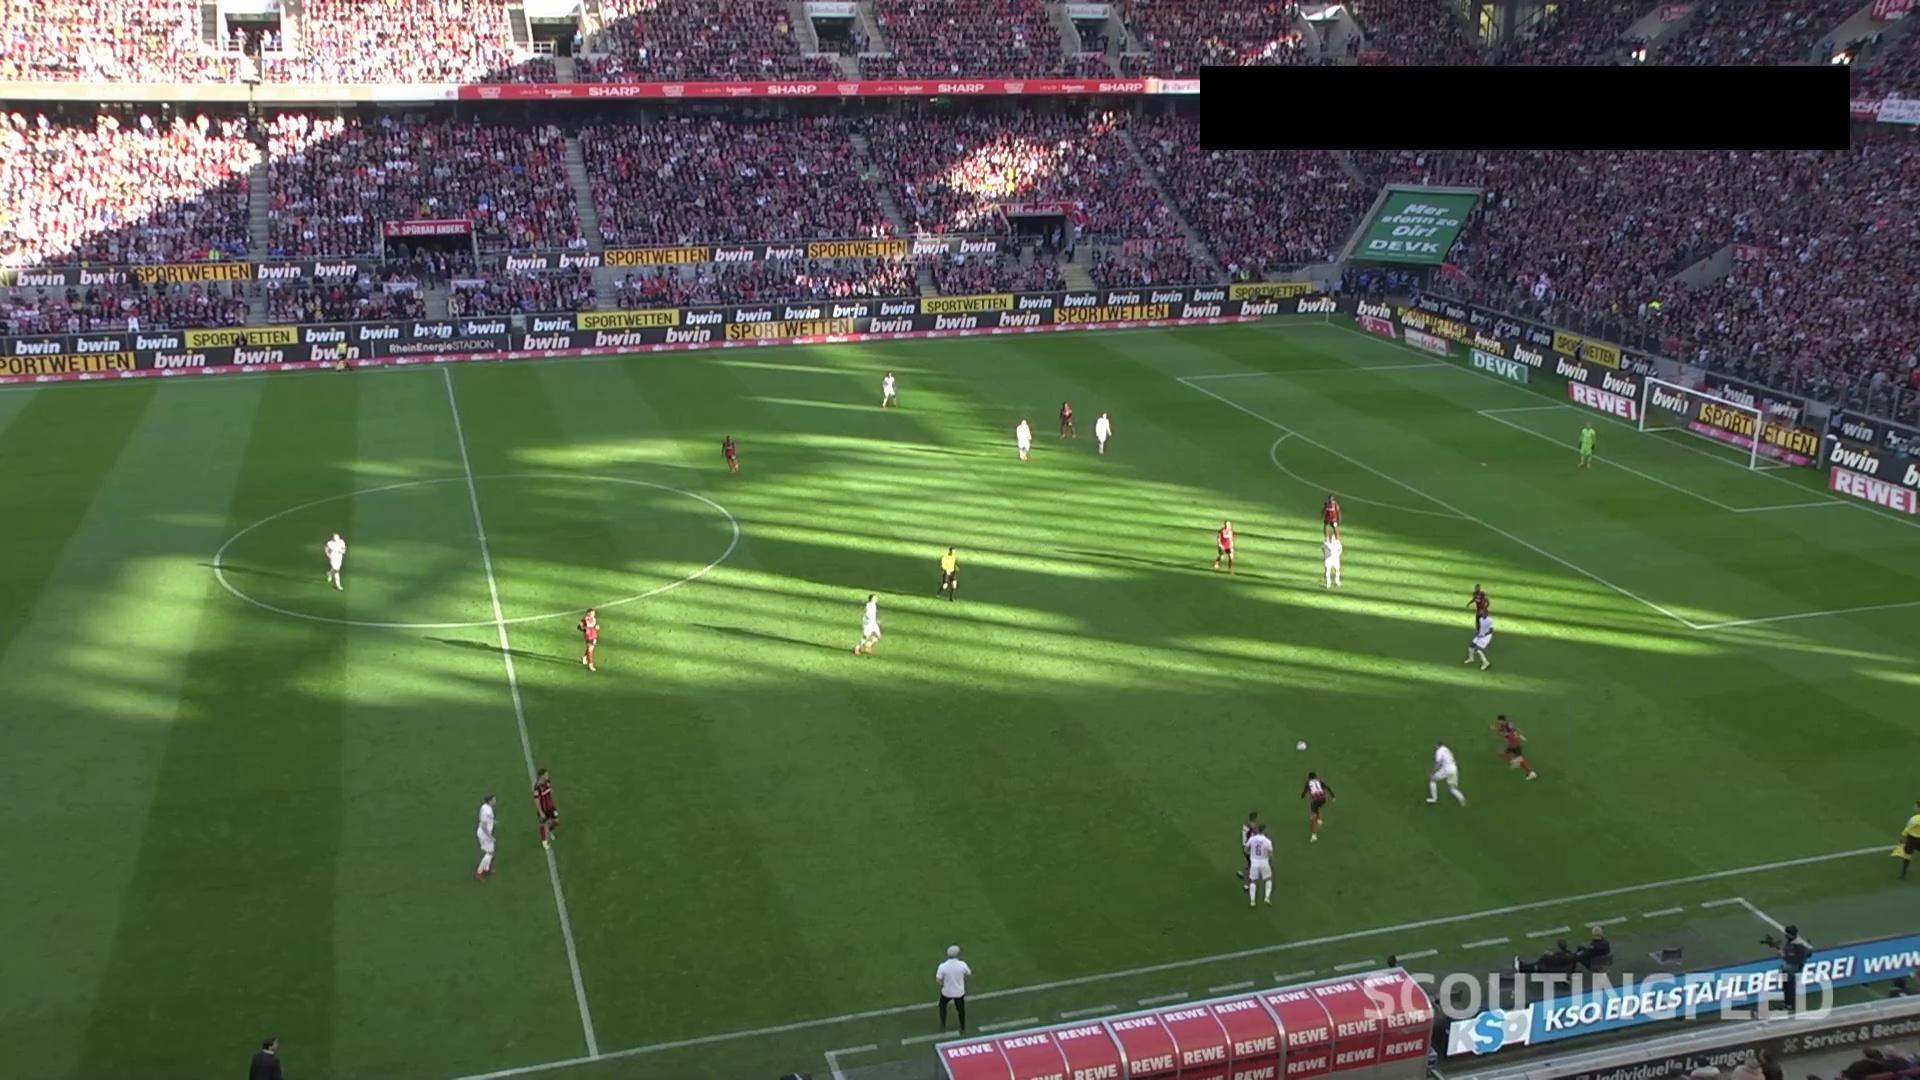Location-of-ball: (1288, 728, 1317, 765)
